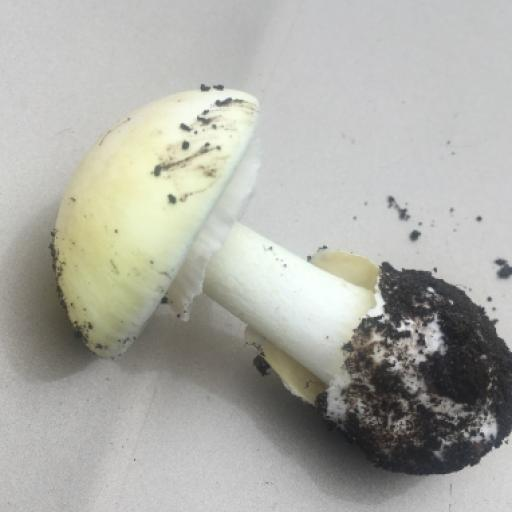Death Cap: (0, 43, 512, 512)
